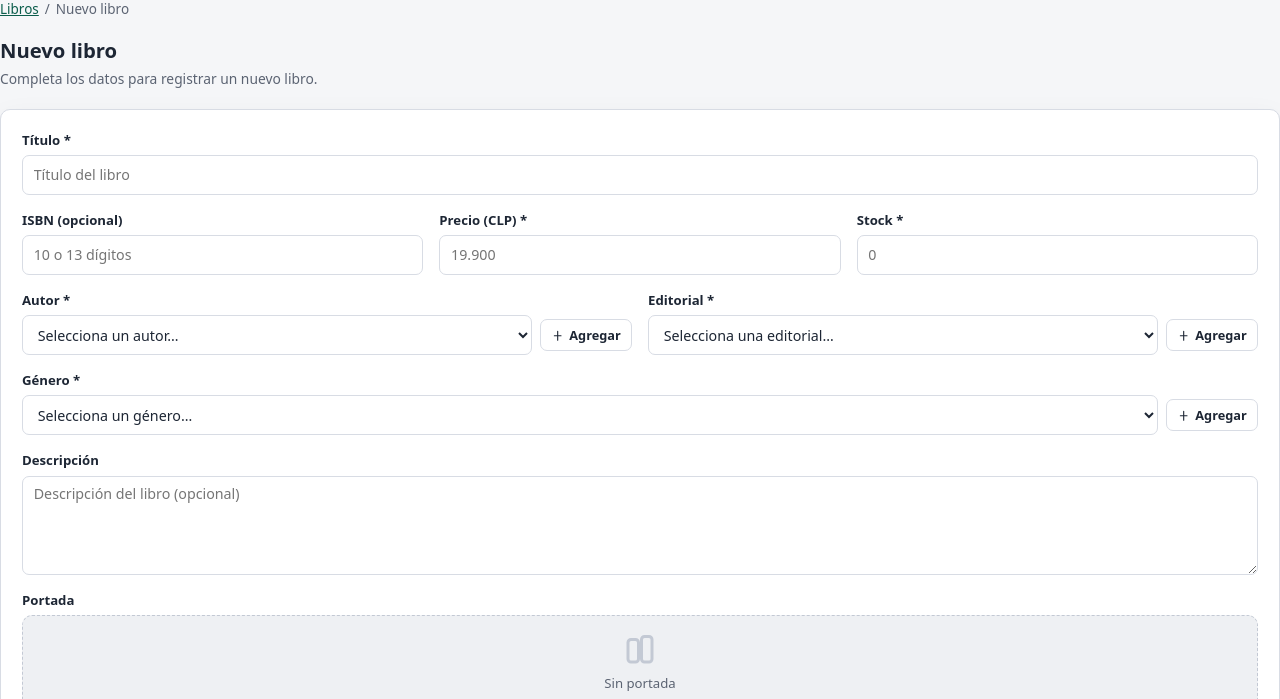
Scenario: BookFormPage (inline catalog creation) › opens the catalog modal with the right title from Agregar género
Click the button with aria-label "Agregar género". click: (1212, 416)
box: x1=1166 y1=400 x2=1258 y2=432
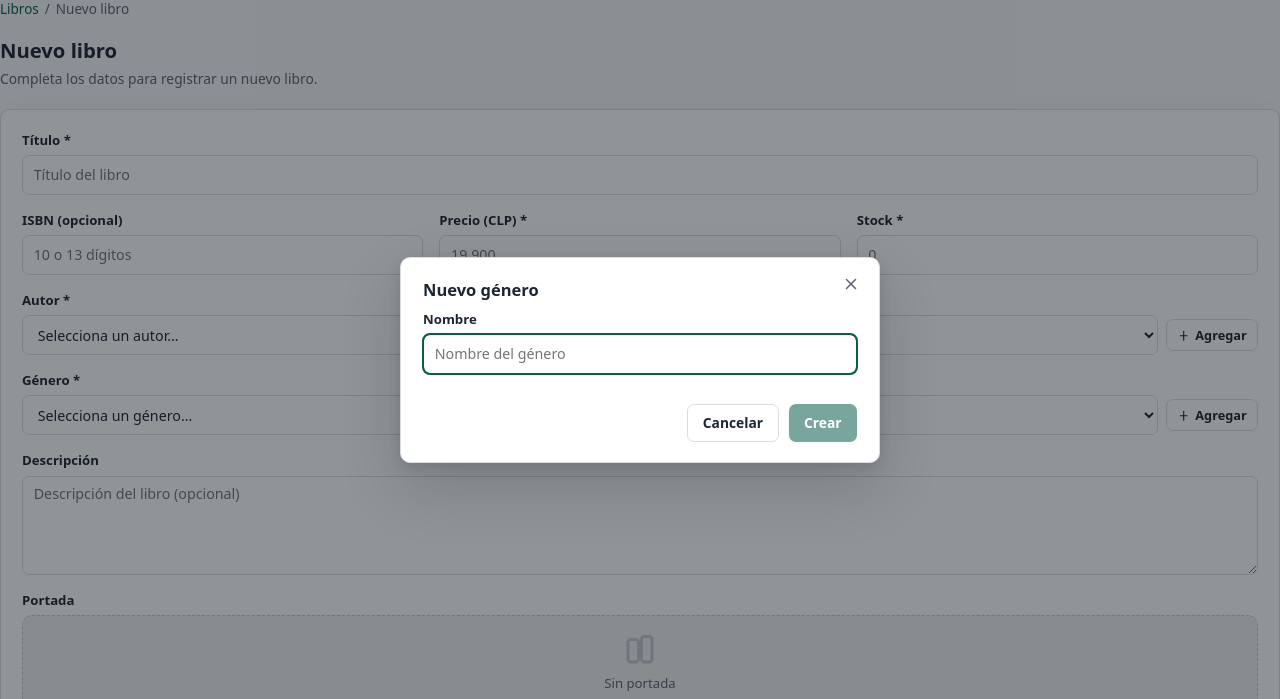
Check: the dialog is shown, box x1=400 y1=257 x2=880 y2=463
Check: the heading "Nuevo género" is shown, box x1=423 y1=278 x2=539 y2=301
Check: the field labelled "Nombre" is shown, box x1=423 y1=334 x2=857 y2=374
